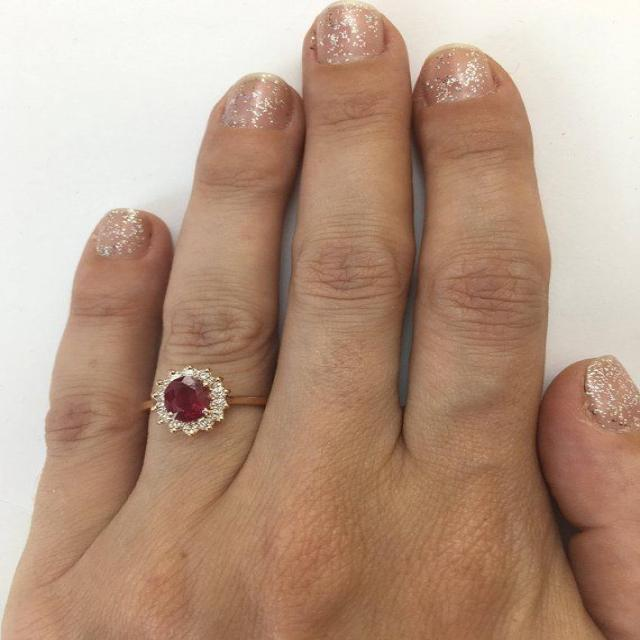Fingernail: (421, 45, 501, 103), (314, 1, 385, 66), (225, 74, 294, 130), (586, 359, 639, 424), (92, 210, 152, 262)
